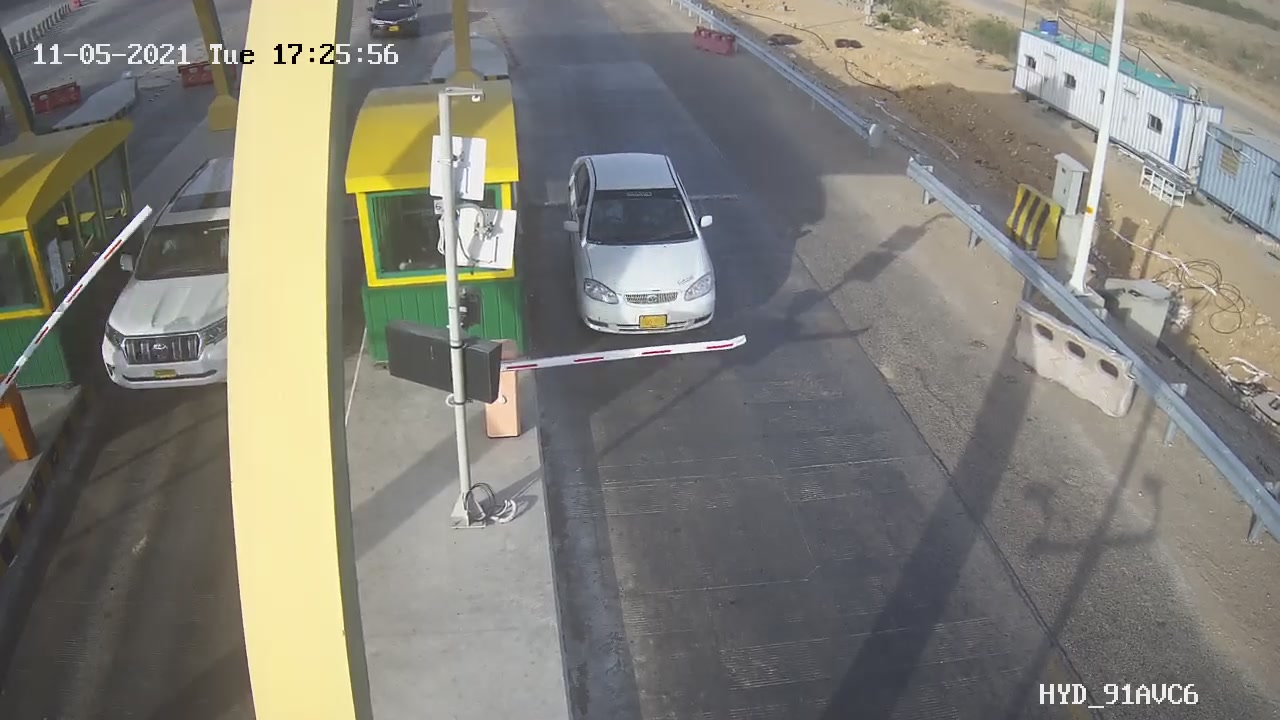F1: (542, 130, 735, 349)
